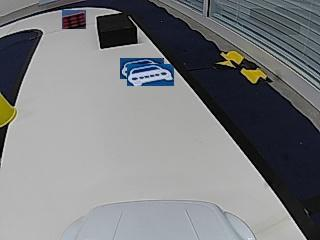block: (96, 13, 137, 48)
cone: (0, 92, 18, 128)
